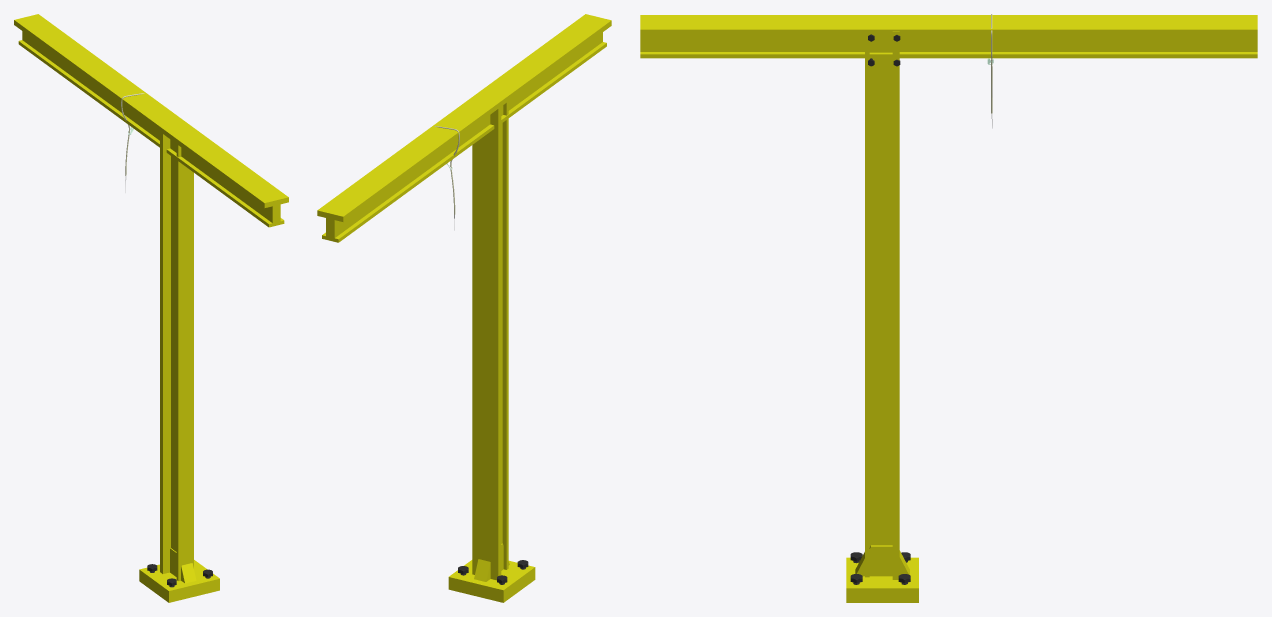
The model's file is estructura.fbx.
3 renders of one model, left to right at view 1: azimuth 30°, elevation 25°; view 2: azimuth 150°, elevation 25°; view 3: azimuth 270°, elevation 25°, orthographic. The views are drawn at different scales.
Parts seen in each view (by area): view 1: Plane.005; view 2: Plane.005; view 3: Plane.005.
Boxes of the visible parts, x1=… form: Plane.005: x1=14, y1=14, x2=288, y2=602; Plane.005: x1=317, y1=14, x2=611, y2=602; Plane.005: x1=640, y1=15, x2=1257, y2=602.
Bounding box in the file's own units: 200 × 1716 × 1693.
